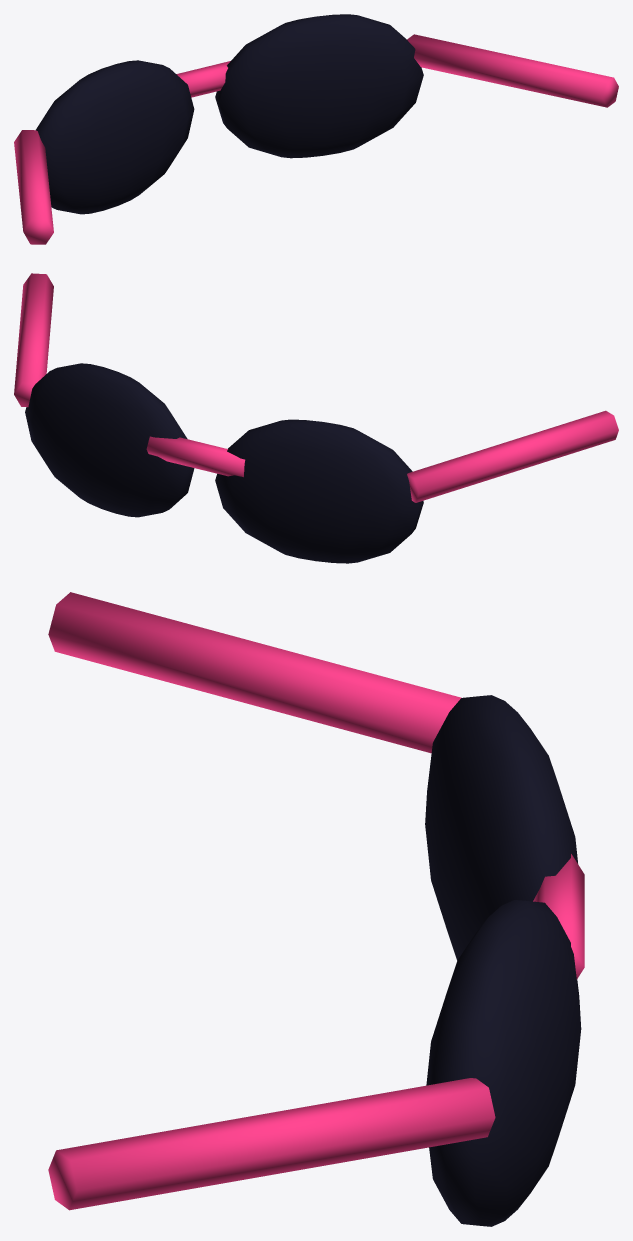
Rendered from acc_shades.glb.
3 views of the same model, one above another, from view 1: azimuth 30°, elevation 25°; view 2: azimuth 150°, elevation 25°; view 3: azimuth 270°, elevation 25° (orthographic). The views are drawn at different scales.
Parts seen in each view (by area): view 1: ShadesLens, ShadesFrame; view 2: ShadesLens, ShadesFrame; view 3: ShadesLens, ShadesFrame.
Boxes of the visible parts, box(x1,y1,x2,y2) form: ShadesLens: box(36, 14, 423, 214); ShadesFrame: box(14, 34, 618, 244); ShadesLens: box(25, 363, 423, 563); ShadesFrame: box(14, 273, 618, 502); ShadesLens: box(425, 695, 581, 1226); ShadesFrame: box(48, 592, 584, 1210).
Size of the model in its own units: 0.6247 by 0.14 by 0.2435.
